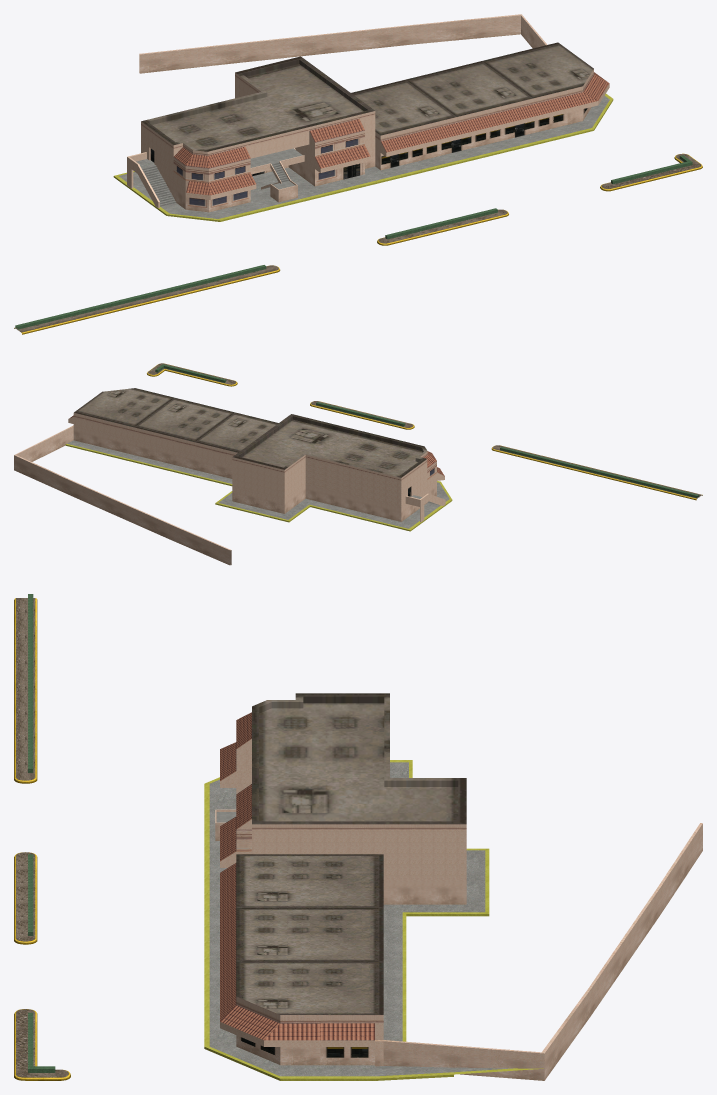
The model's file is smlbuildvgas05.obj.
The picture shows the model from 3 angles, top to bottom: view 1: azimuth 30°, elevation 25°; view 2: azimuth 150°, elevation 25°; view 3: azimuth 270°, elevation 25°; orthographic projection. The views are drawn at different scales.
Parts seen in each view (by area): view 1: smlbuildvgas05; view 2: smlbuildvgas05; view 3: smlbuildvgas05.
Boxes of the visible parts, x1,y1,x2,y2 form: smlbuildvgas05: (14, 14, 702, 334); smlbuildvgas05: (14, 363, 702, 565); smlbuildvgas05: (14, 594, 702, 1080).
Bounding box in the file's own units: 120 × 9.56 × 72.49.
14 materials, 14 textured.
